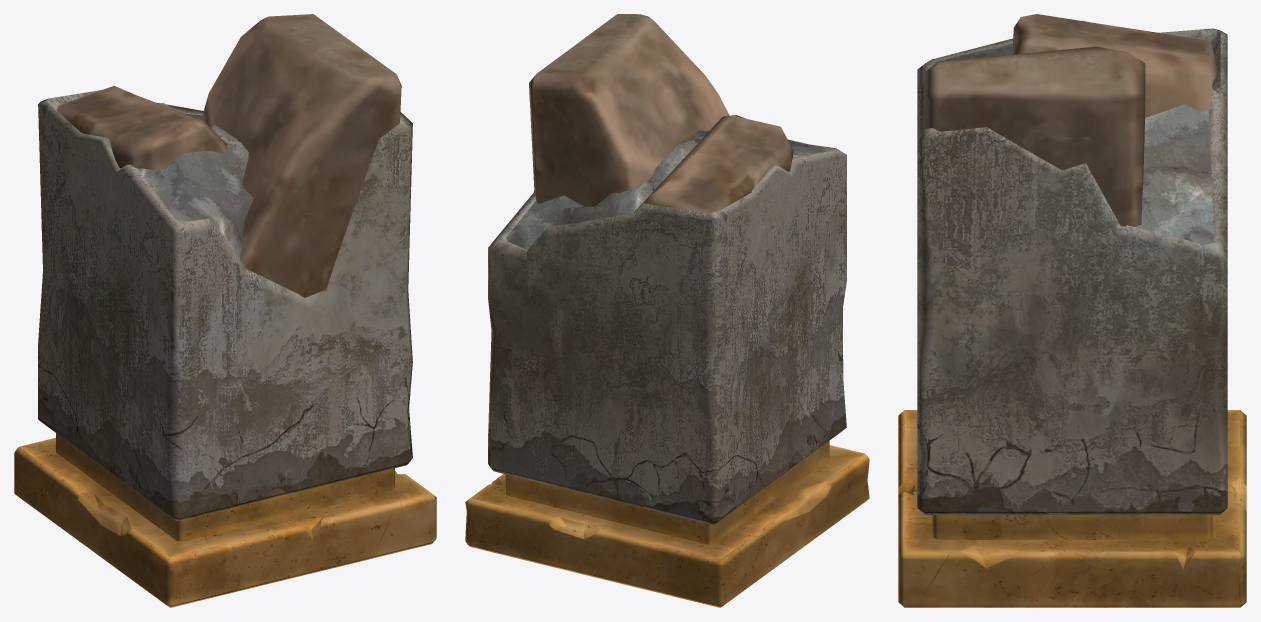
The picture shows the model from 3 angles, left to right: view 1: azimuth 30°, elevation 25°; view 2: azimuth 150°, elevation 25°; view 3: azimuth 270°, elevation 25°; orthographic projection. The views are drawn at different scales.
Parts seen in each view (by area): view 1: SM_Vault_2x1m_Column_Dmg_01_LOD0; view 2: SM_Vault_2x1m_Column_Dmg_01_LOD0; view 3: SM_Vault_2x1m_Column_Dmg_01_LOD0.
Part boxes in pixels (x1=…): SM_Vault_2x1m_Column_Dmg_01_LOD0: x1=14, y1=14, x2=436, y2=607; SM_Vault_2x1m_Column_Dmg_01_LOD0: x1=465, y1=14, x2=869, y2=607; SM_Vault_2x1m_Column_Dmg_01_LOD0: x1=898, y1=14, x2=1246, y2=607.
Size of the model in its own units: 1.12 by 1.85 by 1.12.
Materials: 5 (5 with a texture image).
